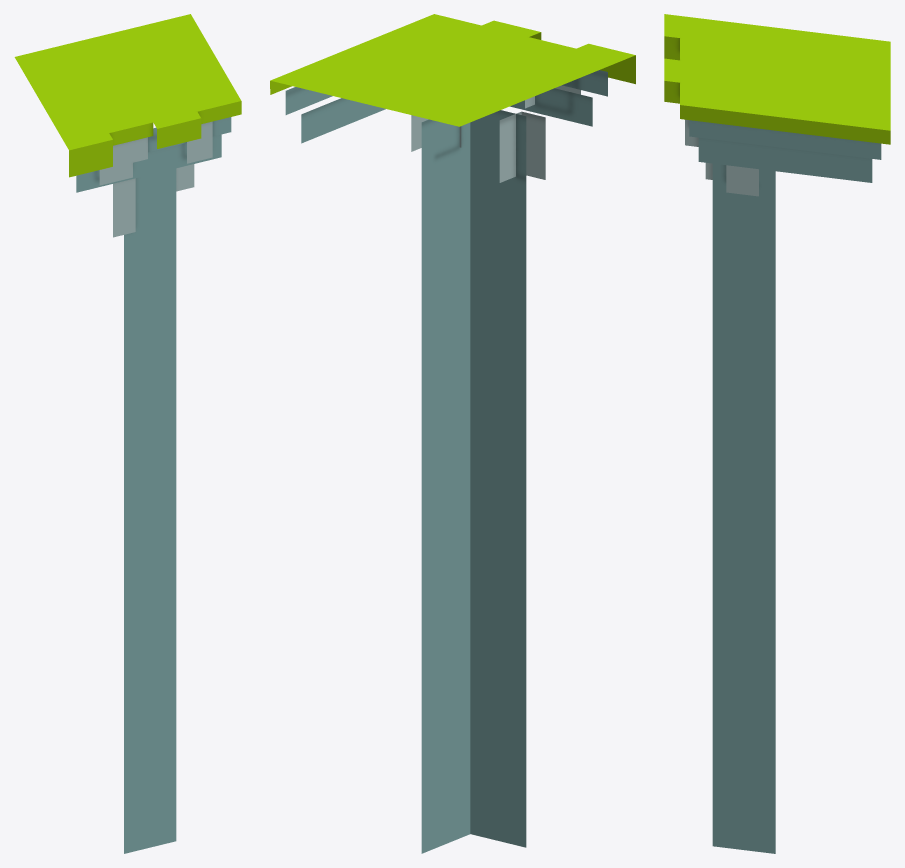
Rendered from Field_Type_01_11.FBX.
The picture shows the model from 3 angles, left to right: view 1: azimuth 30°, elevation 25°; view 2: azimuth 150°, elevation 25°; view 3: azimuth 270°, elevation 25°; orthographic projection. The views are drawn at different scales.
Visible parts, largest first — view 1: Field_Type_01_11; view 2: Field_Type_01_11; view 3: Field_Type_01_11.
Boxes of the visible parts, left/top/right/bottom form: Field_Type_01_11: left=14, top=14, right=241, bottom=853; Field_Type_01_11: left=270, top=14, right=635, bottom=853; Field_Type_01_11: left=664, top=14, right=890, bottom=853.
Size of the model in its own units: 28.31 by 86.61 by 23.21.
